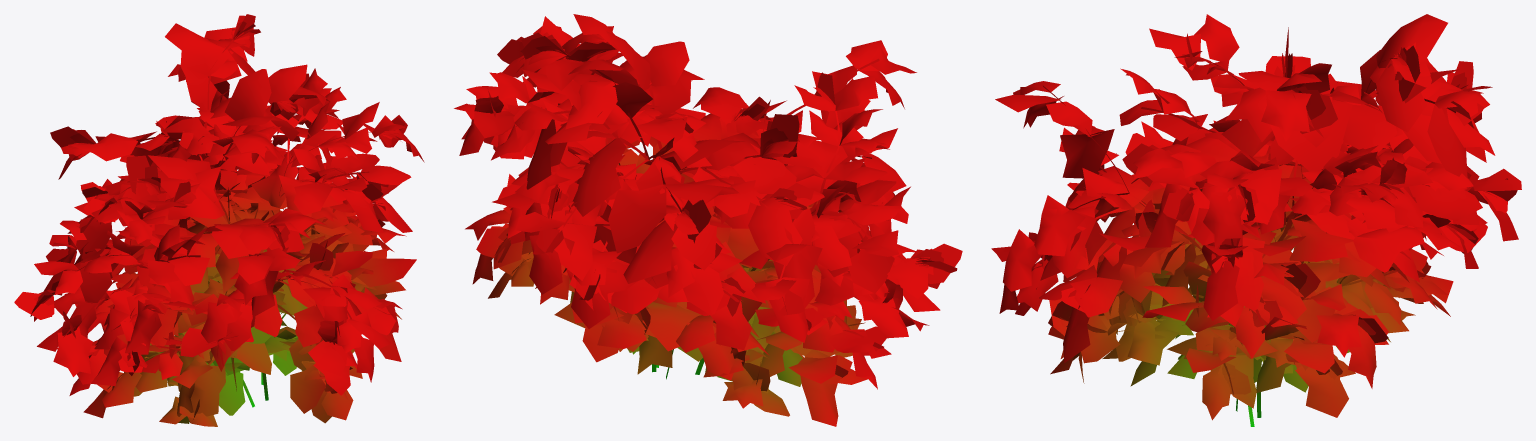
File: Bush1.fbx
3 renders of one model, left to right at view 1: azimuth 30°, elevation 25°; view 2: azimuth 150°, elevation 25°; view 3: azimuth 270°, elevation 25°, orthographic. The views are drawn at different scales.
Parts seen in each view (by area): view 1: Bush1_LOD0; view 2: Bush1_LOD0; view 3: Bush1_LOD0.
Boxes of the visible parts, <box> form: Bush1_LOD0: <box>14,14,424,426</box>; Bush1_LOD0: <box>454,14,962,426</box>; Bush1_LOD0: <box>991,14,1521,426</box>.
Size of what is drawn, in the model's own units: 206 by 165 by 196.
